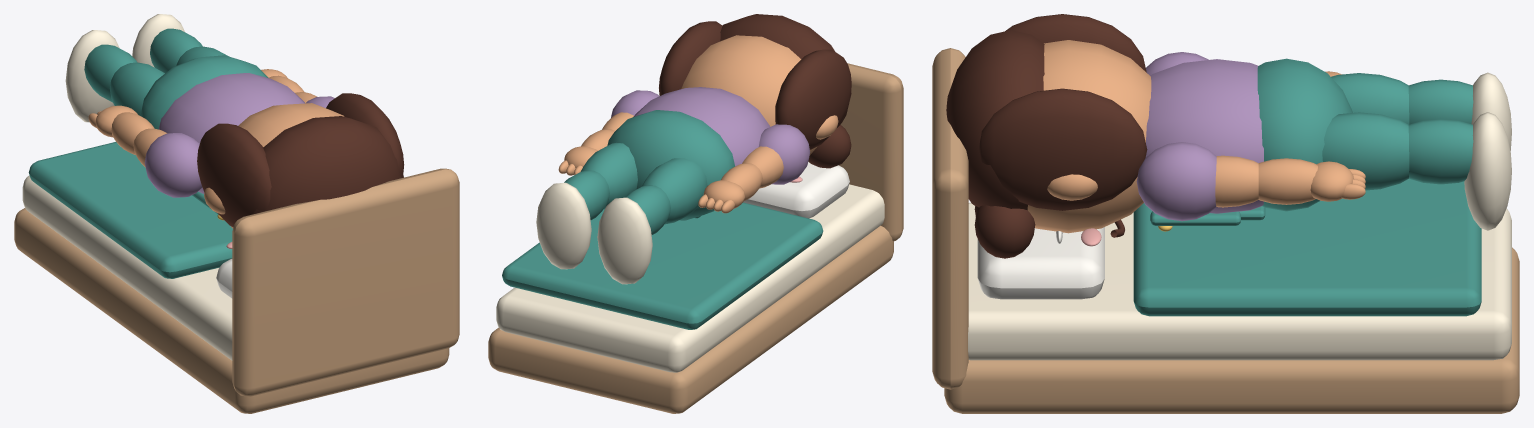
The model's file is mommy-sleep.glb.
The picture shows the model from 3 angles, left to right: view 1: azimuth 30°, elevation 25°; view 2: azimuth 150°, elevation 25°; view 3: azimuth 270°, elevation 25°; orthographic projection. The views are drawn at different scales.
Parts seen in each view (by area): view 1: headboard, quilt, bed base, hair cap, soft mattress, bob hair, soft shirt, overalls, shirt sleeve, little shoe, clay head, bob hair.001 (+9 smaller); view 2: quilt, bed base, soft mattress, headboard, overalls, clay head, bob hair, soft shirt, little shoe, little shoe.001, pillow, hair cap (+13 smaller); view 3: quilt, soft mattress, bed base, bob hair.001, headboard, soft shirt, hair cap, clay head, overalls, pillow, shirt sleeve.001, trouser leg.001 (+13 smaller).
Part boxes in pixels (x1,y1,x2,y2): headboard: (232,168,459,396); quilt: (28,142,232,278); bed base: (14,208,449,413); hair cap: (253,116,403,214); soft mattress: (22,175,232,360); bob hair: (197,123,271,226); soft shirt: (158,73,304,193); overalls: (140,55,268,129); shirt sleeve: (144,133,202,197); little shoe: (65,30,119,122); clay head: (231,103,344,228); bob hair.001: (326,93,404,177); quilt: (502,202,823,329); bed base: (488,225,893,413); soft mattress: (496,184,884,372); headboard: (839,63,903,241); overalls: (607,110,734,220); clay head: (681,35,817,155); bob hair: (775,49,851,149); soft shirt: (633,87,770,166); little shoe: (597,197,652,284); little shoe.001: (536,182,591,269); pillow: (743,162,849,218); hair cap: (720,14,851,126); quilt: (1133,179,1481,316); soft mattress: (968,202,1511,360); bed base: (944,247,1519,413); bob hair.001: (979,88,1147,210); headboard: (932,48,968,389); soft shirt: (1145,59,1263,213); hair cap: (946,30,1044,210); clay head: (1027,40,1151,233); overalls: (1257,58,1352,211); pillow: (977,227,1104,299); shirt sleeve.001: (1136,142,1216,221); trouser leg.001: (1322,112,1409,190).
Size of the model in its own units: 1.05 by 1.15 by 1.94.
